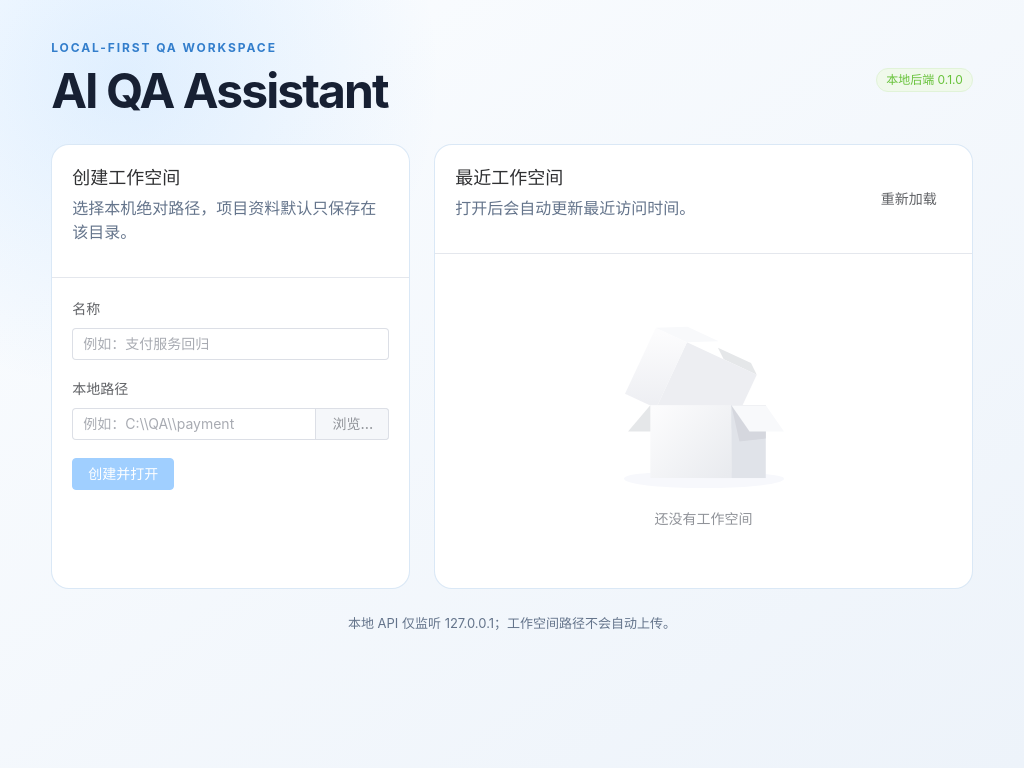
Test: WorkspaceView › fills the workspace path from the native directory picker
Click the button with test id "select-workspace-directory" at point(353, 424), box [316,408,389,440]
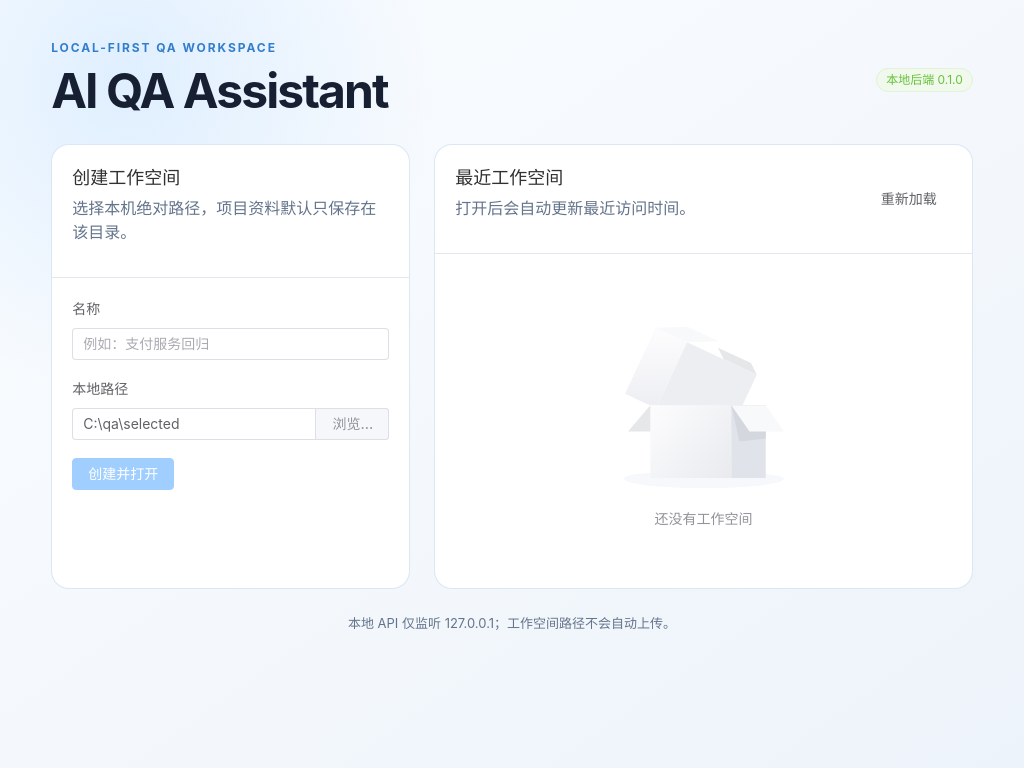
Expected: the field labelled "本地路径" holds "C:\\qa\\selected", [83,409,306,439]
